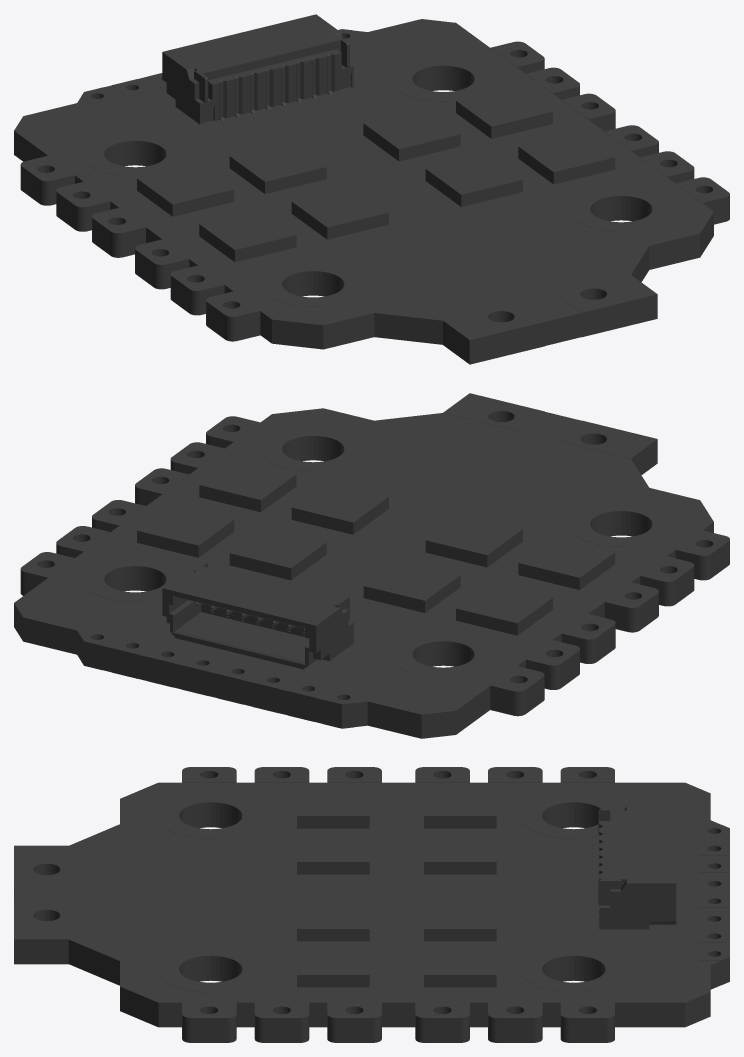
File: esc-holybro-tekko32-50a.glb
3 views of the same model, one above another, from view 1: azimuth 30°, elevation 25°; view 2: azimuth 150°, elevation 25°; view 3: azimuth 270°, elevation 25° (orthographic). The views are drawn at different scales.
Parts seen in each view (by area): view 1: world; view 2: world; view 3: world.
Boxes of the visible parts, x1,y1,x2,y2 form: world: (14, 14, 729, 364); world: (14, 393, 729, 738); world: (14, 767, 729, 1042).
Bounding box in the file's own units: 0.0327 × 0.00636 × 0.0394.
Materials: 1 (1 with a texture image).
